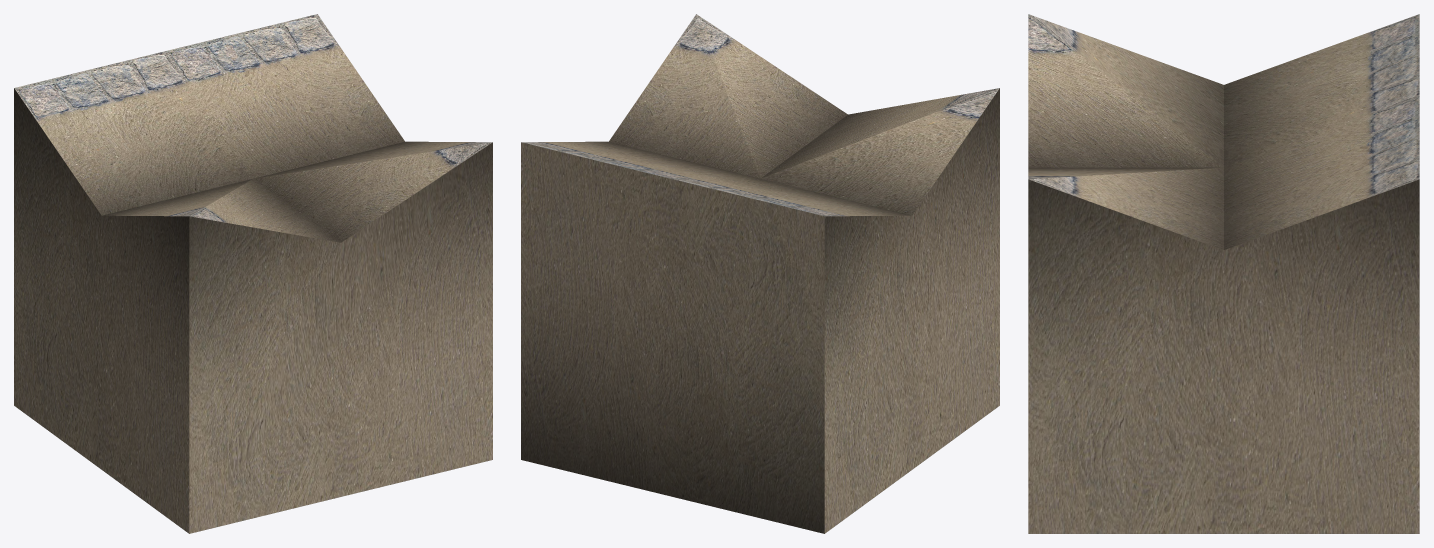
Rendered from BlockInclinedT.fbx.
3 views of the same model, side by side, from view 1: azimuth 30°, elevation 25°; view 2: azimuth 150°, elevation 25°; view 3: azimuth 270°, elevation 25° (orthographic). The views are drawn at different scales.
Parts seen in each view (by area): view 1: blockInclinedT; view 2: blockInclinedT; view 3: blockInclinedT.
Boxes of the visible parts, bbox=[...] form: blockInclinedT: bbox=[14, 14, 492, 533]; blockInclinedT: bbox=[521, 14, 999, 533]; blockInclinedT: bbox=[1028, 14, 1419, 533].
Size of the model in its own units: 100 by 100 by 100.
